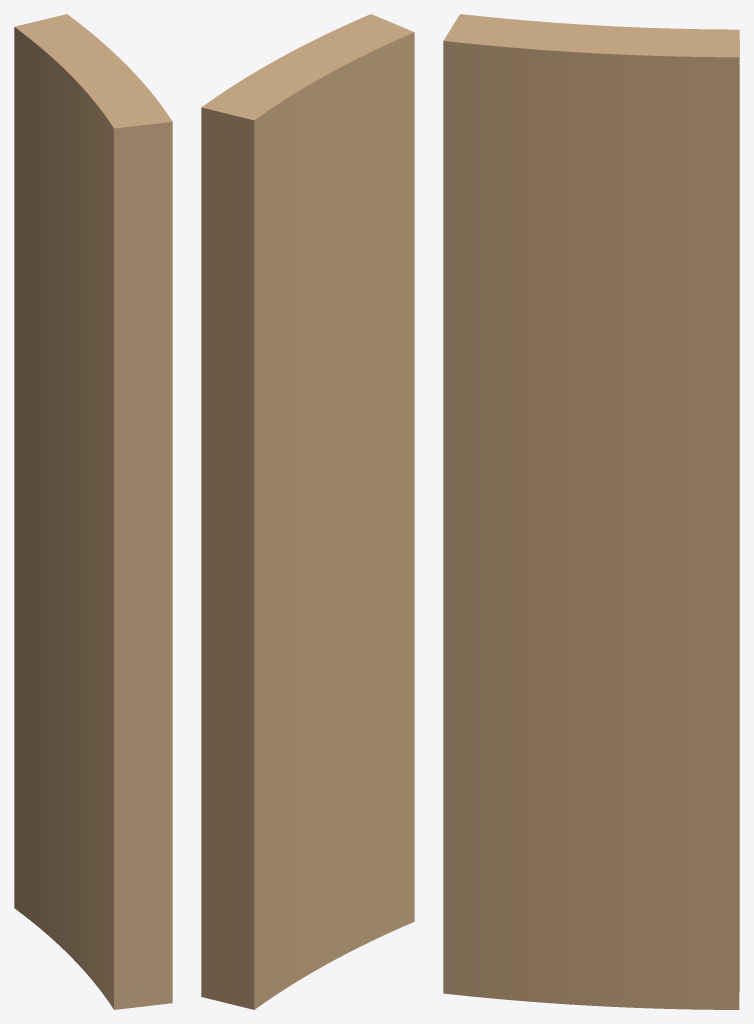
The model's file is starter-commutator-segment-24.glb.
3 views of the same model, side by side, from view 1: azimuth 30°, elevation 25°; view 2: azimuth 150°, elevation 25°; view 3: azimuth 270°, elevation 25° (orthographic). The views are drawn at different scales.
Parts seen in each view (by area): view 1: world; view 2: world; view 3: world.
Boxes of the visible parts, x1,y1,x2,y2 form: world: [14, 14, 172, 1009]; world: [201, 14, 414, 1009]; world: [443, 14, 739, 1009].
Size of the model in its own units: 0.00156 by 0.016 by 0.00451.
